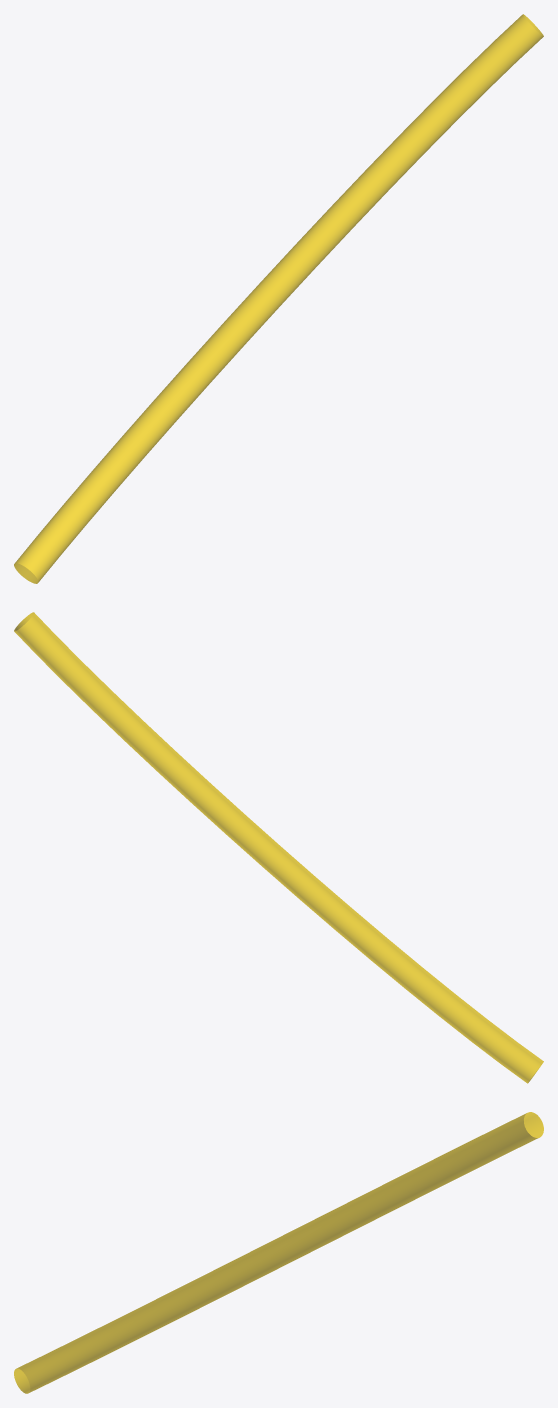
Rendered from Event_100608114_track_61.fbx.
The picture shows the model from 3 angles, top to bottom: view 1: azimuth 30°, elevation 25°; view 2: azimuth 150°, elevation 25°; view 3: azimuth 330°, elevation 25°; orthographic projection. The views are drawn at different scales.
Parts seen in each view (by area): view 1: Model; view 2: Model; view 3: Model.
Part boxes in pixels (x1,y1,x2,y2): Model: [14, 14, 543, 583]; Model: [14, 612, 543, 1083]; Model: [14, 1112, 543, 1393].
Size of the model in its own units: 0.8289 by 0.5959 by 0.1241.
